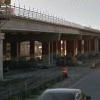Bridge: (8, 1, 93, 64)
